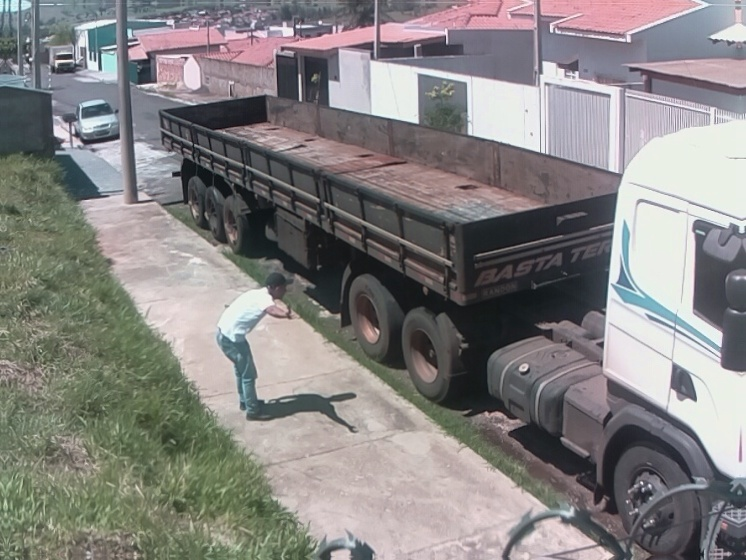person: (214, 272, 299, 421)
